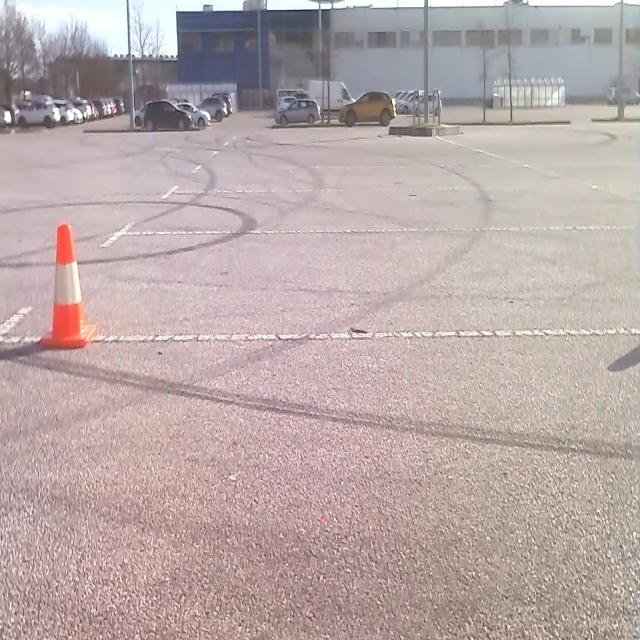orange_cone: (38, 219, 98, 350)
